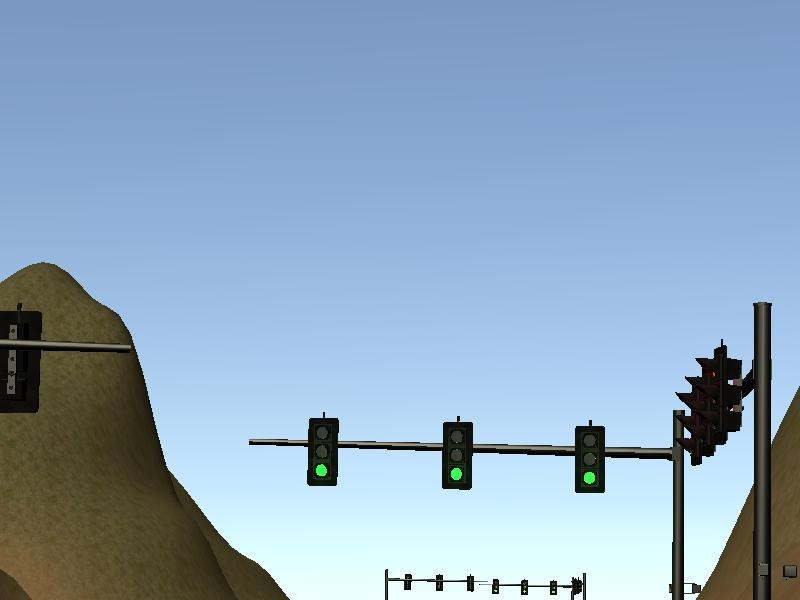GREEN: (304, 415, 341, 487), (573, 424, 609, 496), (441, 421, 476, 492)
